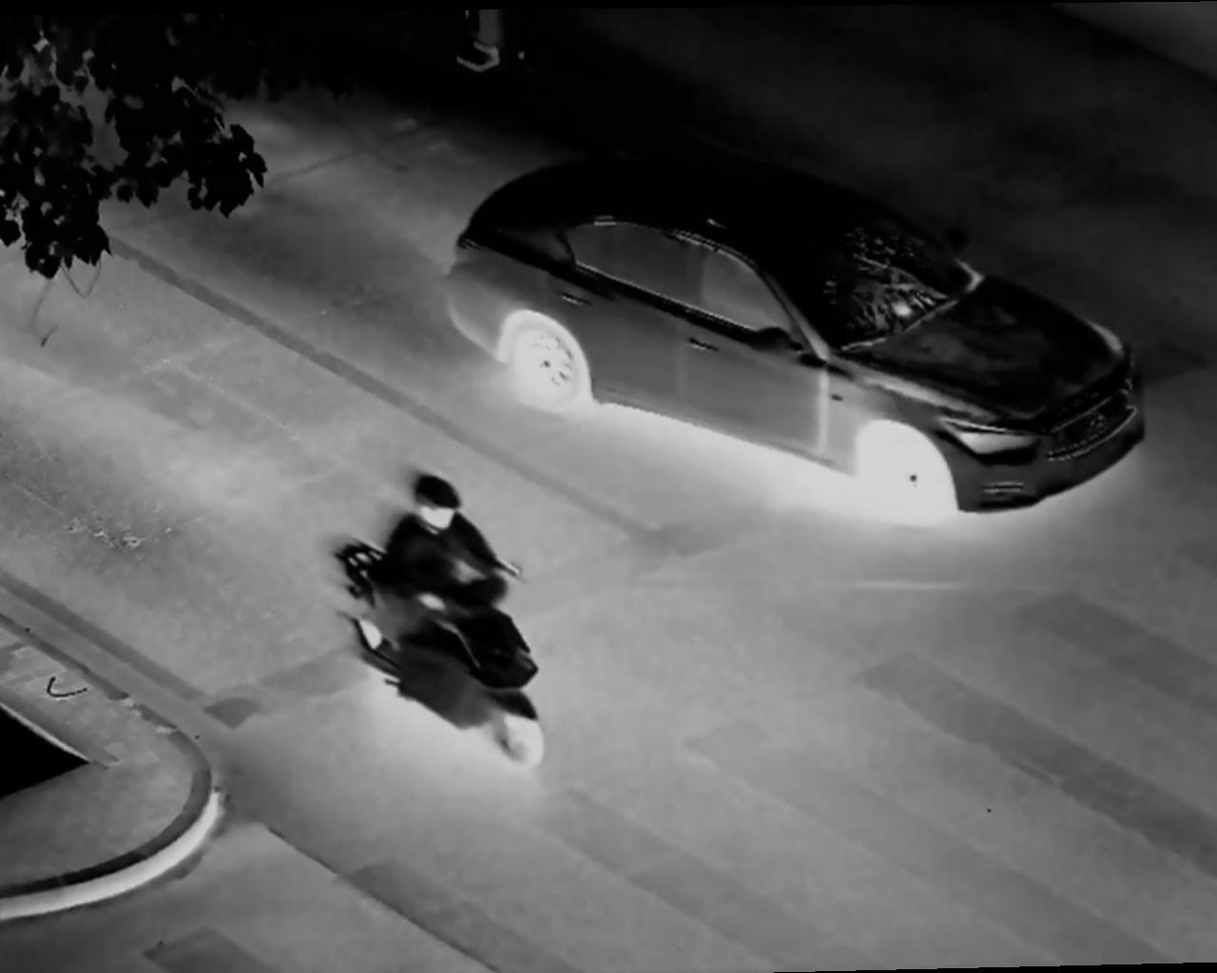person: (388, 479, 479, 685)
